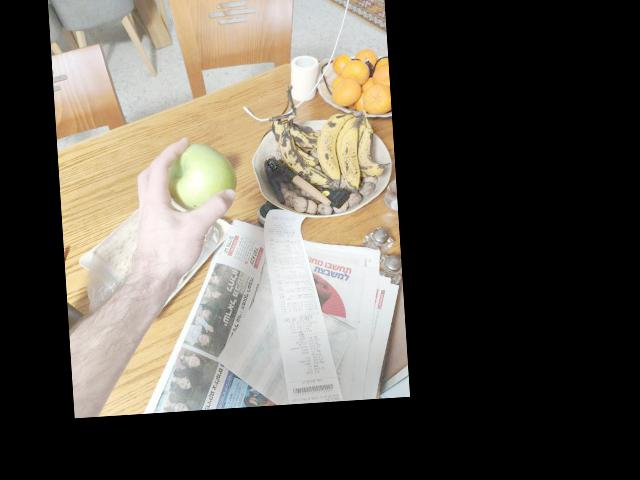apple: (161, 136, 236, 219)
